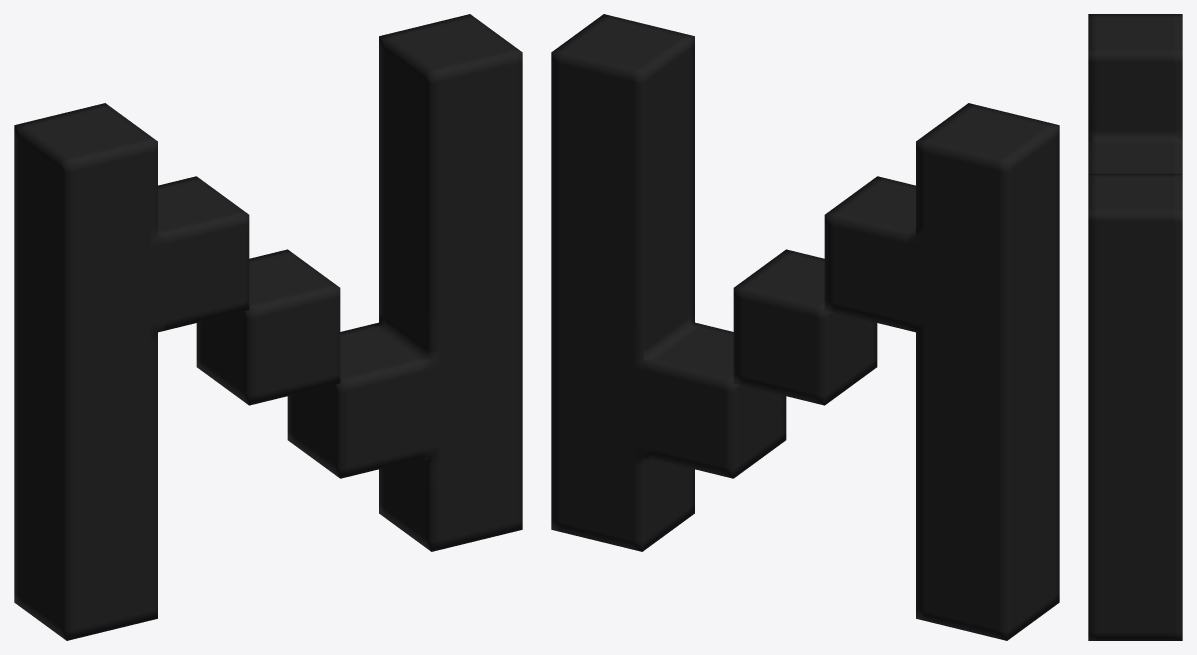
The model's file is font_n.glb.
The picture shows the model from 3 angles, left to right: view 1: azimuth 30°, elevation 25°; view 2: azimuth 150°, elevation 25°; view 3: azimuth 270°, elevation 25°; orthographic projection. The views are drawn at different scales.
Parts seen in each view (by area): view 1: letter_n; view 2: letter_n; view 3: letter_n.
Boxes of the visible parts, x1,y1,x2,y2 form: letter_n: (14, 14, 522, 640); letter_n: (551, 14, 1059, 640); letter_n: (1088, 14, 1182, 640).
Size of the model in its own units: 1 by 1 by 0.2.
Materials: 1 (1 with a texture image).
